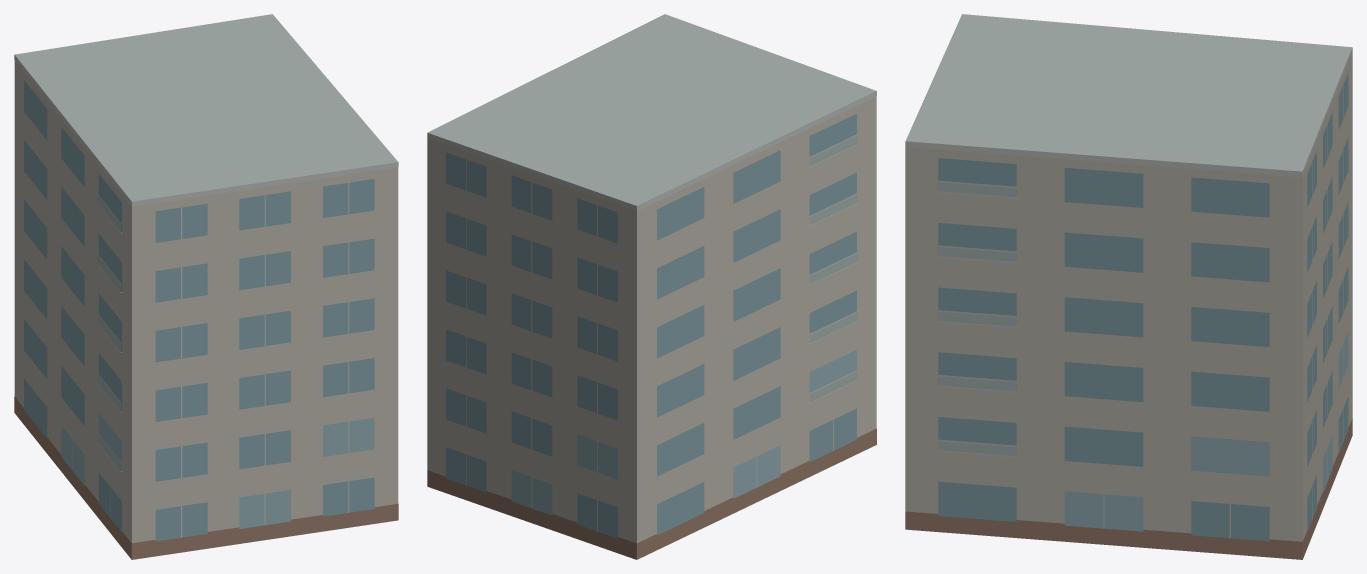
File: survey-upis-32653474.glb
3 views of the same model, side by side, from view 1: azimuth 30°, elevation 25°; view 2: azimuth 150°, elevation 25°; view 3: azimuth 270°, elevation 25° (orthographic). The views are drawn at different scales.
Parts seen in each view (by area): view 1: survey-upis-32653474.tmp; view 2: survey-upis-32653474.tmp; view 3: survey-upis-32653474.tmp.
Part boxes in pixels (x1,y1,x2,y2): survey-upis-32653474.tmp: (14,14,398,559); survey-upis-32653474.tmp: (427,14,876,559); survey-upis-32653474.tmp: (905,14,1352,559).
Bounding box in the file's own units: 14.37 × 16.5 × 17.23.
